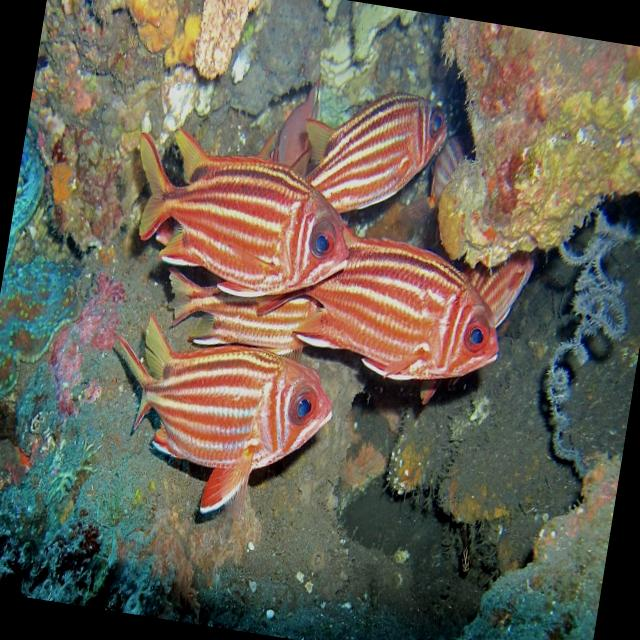Asker Baligi: (70, 290, 345, 542), (98, 112, 370, 324), (287, 51, 464, 231)
